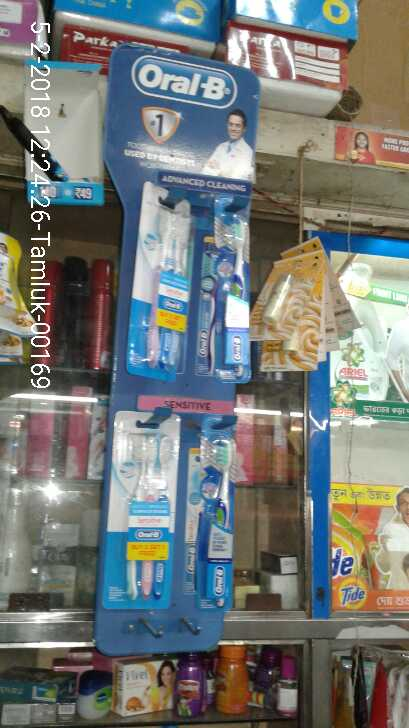oralb: (109, 422, 171, 602), (187, 428, 245, 603), (136, 195, 191, 365), (208, 213, 255, 376)
